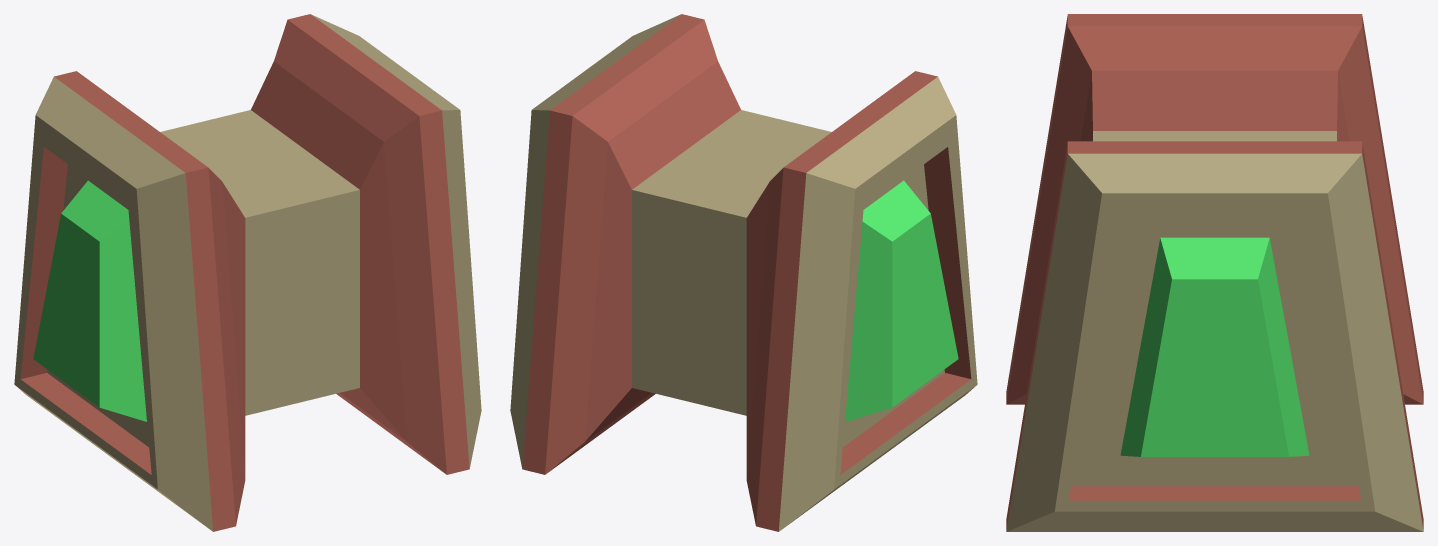
File: FloatingTurret.fbx
3 views of the same model, side by side, from view 1: azimuth 30°, elevation 25°; view 2: azimuth 150°, elevation 25°; view 3: azimuth 270°, elevation 25° (orthographic). The views are drawn at different scales.
Visible parts, largest first — view 1: Cube; view 2: Cube; view 3: Cube.
Boxes of the visible parts, bbox=[...] form: Cube: bbox=[14, 14, 481, 531]; Cube: bbox=[510, 14, 977, 531]; Cube: bbox=[1006, 14, 1423, 531].
Size of the model in its own units: 673 by 600 by 600.
